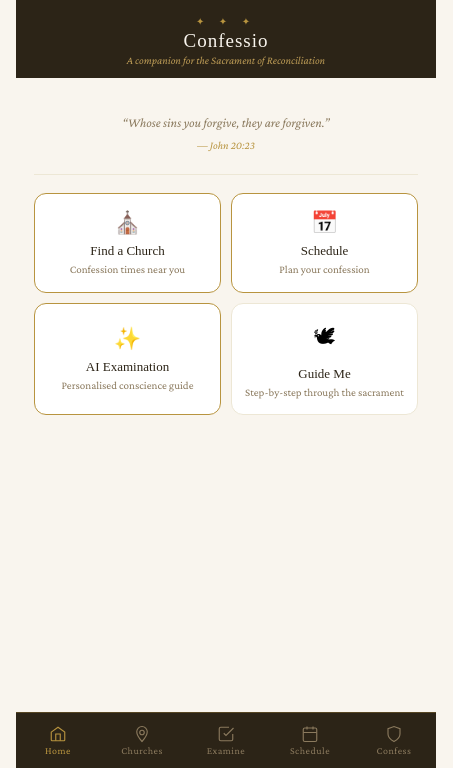
App › navigates to ChurchesScreen via BottomNav
Click the button "Churches". click: (142, 740)
box: x1=100 y1=713 x2=184 y2=767
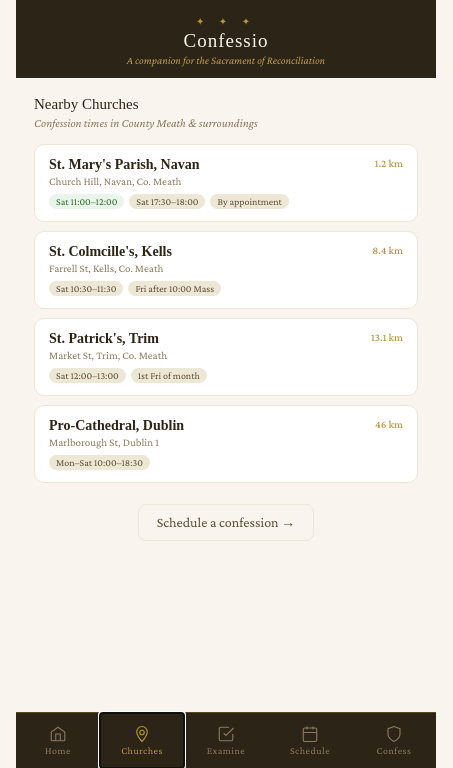
Check: the heading "Nearby Churches" is shown, box x1=34 y1=96 x2=138 y2=112
